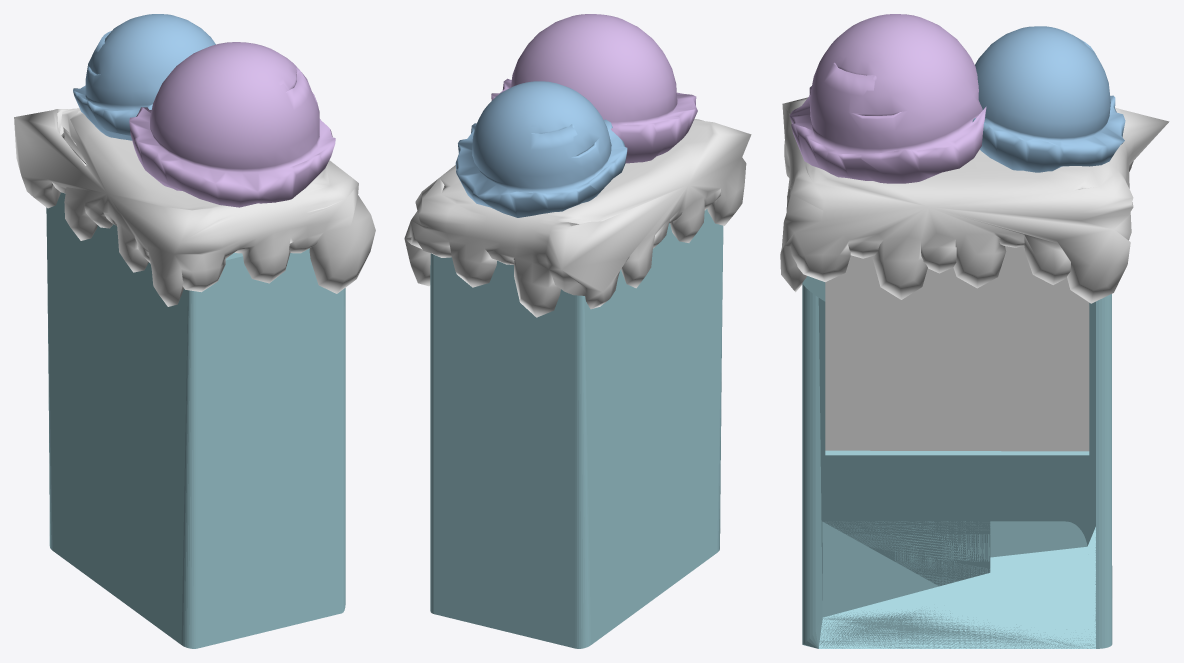
File: machine.fbx
3 views of the same model, side by side, from view 1: azimuth 30°, elevation 25°; view 2: azimuth 150°, elevation 25°; view 3: azimuth 270°, elevation 25° (orthographic). The views are drawn at different scales.
Visible parts, largest first — view 1: Cube, Cube.001, Sphere, Sphere.001; view 2: Cube, Cube.001, Sphere.001, Sphere; view 3: Cube, Cube.001, Sphere, Sphere.001.
Part boxes in pixels (box(x1,y1,x2,y2)): Cube: box(46, 192, 345, 648); Cube.001: box(14, 108, 375, 306); Sphere: box(129, 42, 335, 207); Sphere.001: box(73, 14, 215, 140); Cube: box(430, 209, 723, 648); Cube.001: box(404, 119, 751, 317); Sphere.001: box(455, 81, 627, 217); Sphere: box(491, 14, 697, 163); Cube: box(802, 246, 1112, 648); Cube.001: box(780, 97, 1169, 303); Sphere: box(789, 14, 986, 183); Sphere.001: box(972, 26, 1125, 172).
Bounding box in the file's own units: 678 × 1131 × 441.
